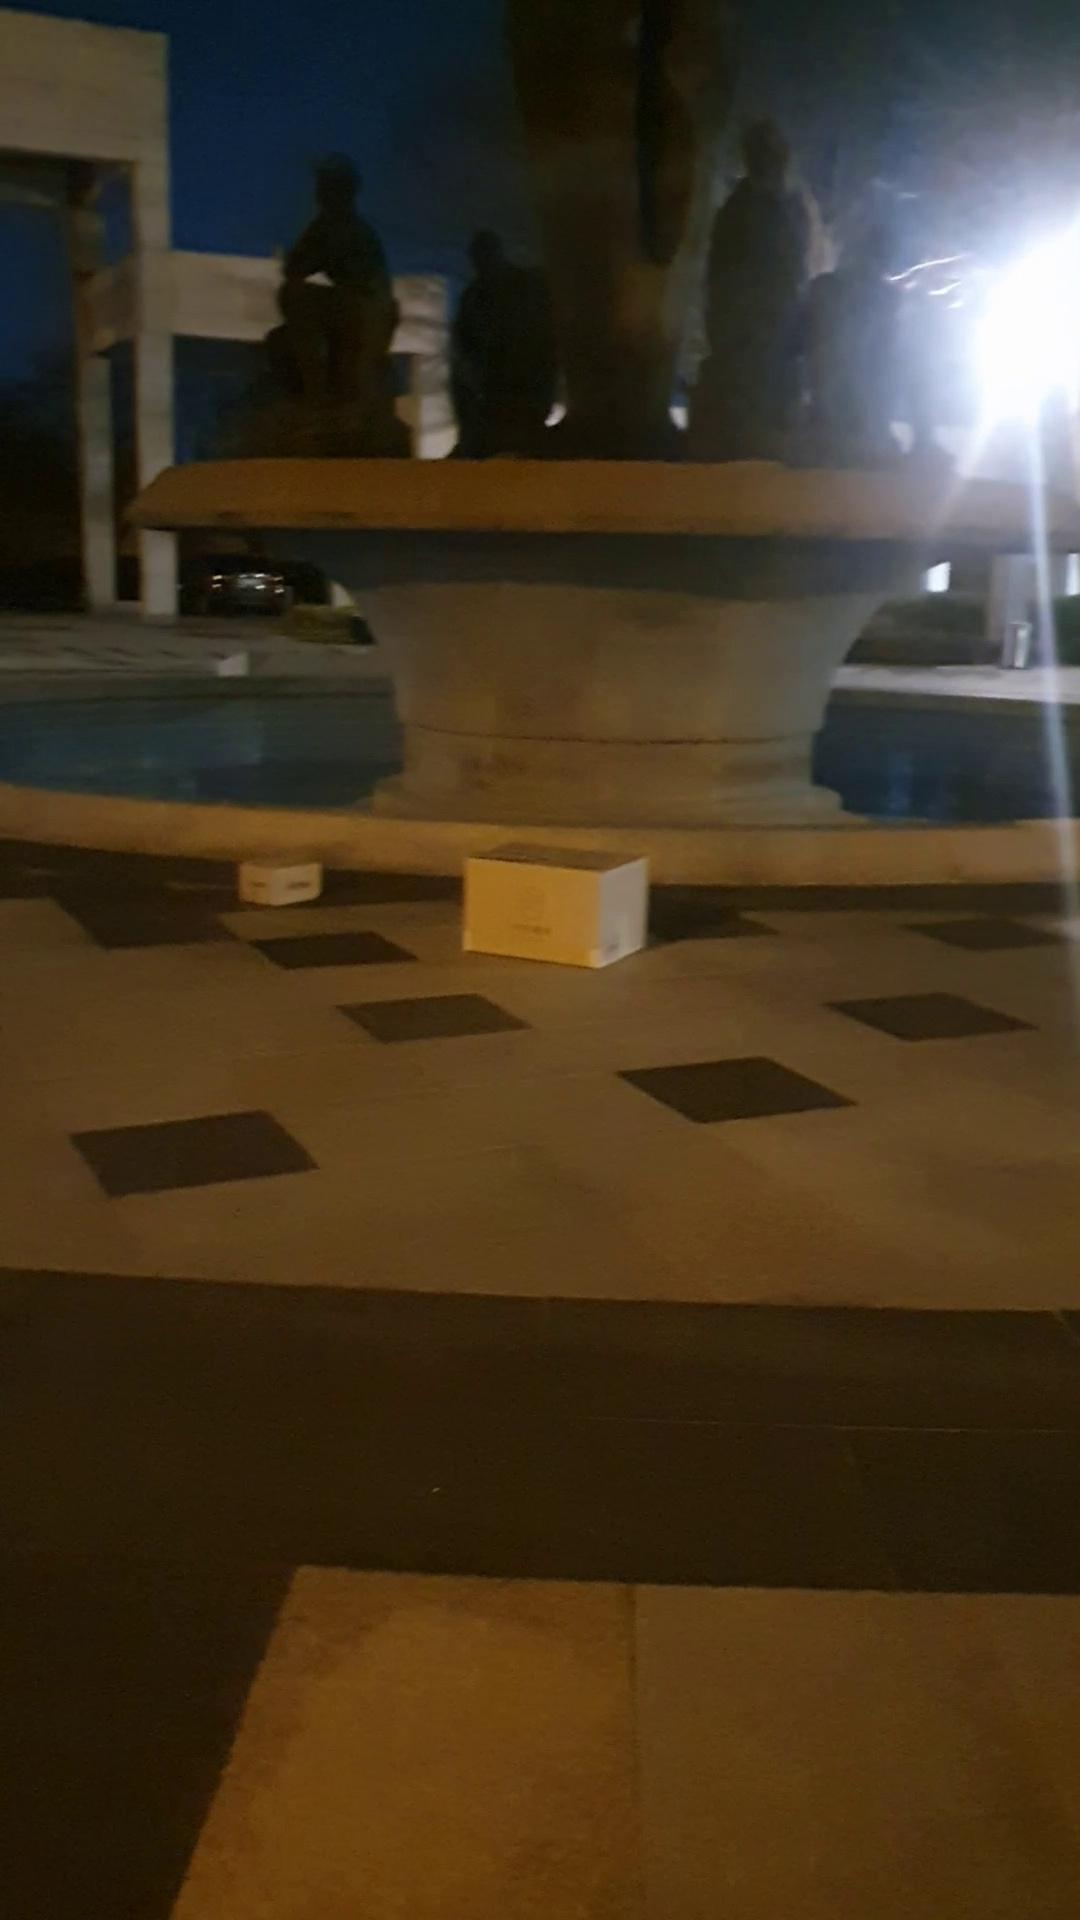Box: (451, 828, 659, 975), (241, 840, 330, 907)
